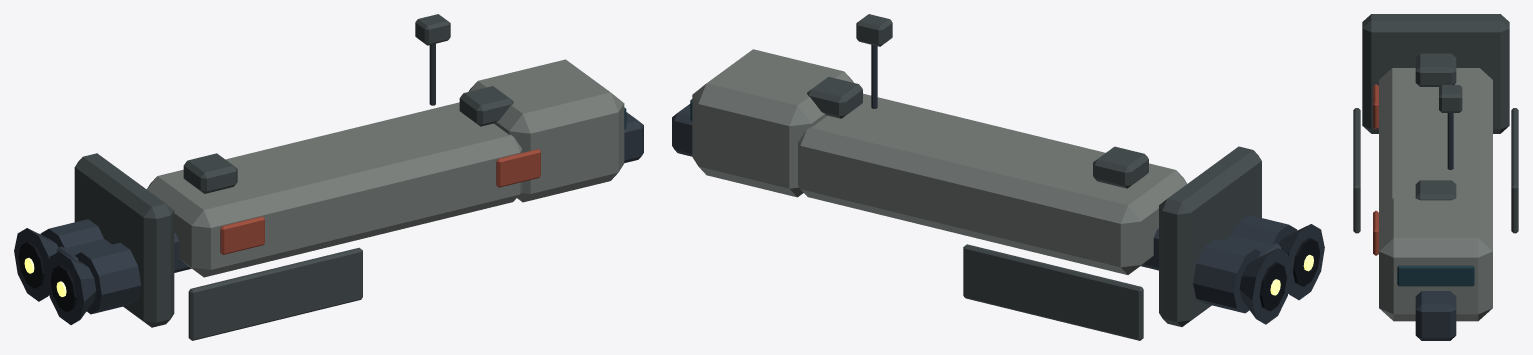
File: necessary-force.glb
3 views of the same model, side by side, from view 1: azimuth 30°, elevation 25°; view 2: azimuth 150°, elevation 25°; view 3: azimuth 270°, elevation 25° (orthographic). The views are drawn at different scales.
Visible parts, largest first — view 1: armored mission hull, forward command, reactor shield, shuttered radiator, engine jacket, engine bell, dorsal mount, structural spine, dorsal mount.001, weapon access.001, engine bell.001, weapon access (+4 smaller); view 2: armored mission hull, forward command, reactor shield, shuttered radiator.001, engine jacket.001, engine bell.001, dorsal mount, structural spine, dorsal mount.001, engine bell, engine jacket, sensor head (+2 smaller); view 3: armored mission hull, forward command, reactor shield, structural spine, bridge glazing, dorsal mount, shuttered radiator, shuttered radiator.001, dorsal mount.001, sensor head, radio mast, weapon access (+1 smaller).
Boxes of the visible parts, x1,y1,x2,y2 form: armored mission hull: (146,102,522,277); forward command: (468,59,624,202); reactor shield: (74,153,174,327); shuttered radiator: (188,247,362,340); engine jacket: (75,242,141,314); engine bell: (46,251,96,324); dorsal mount: (183,153,237,193); structural spine: (56,112,643,272); dorsal mount.001: (459,86,513,126); weapon access.001: (496,149,540,187); engine bell.001: (14,228,58,301); weapon access: (220,216,264,254); armored mission hull: (798,93,1187,274); forward command: (692,49,853,197); reactor shield: (1159,146,1261,326); shuttered radiator.001: (963,244,1143,340); engine jacket.001: (1193,239,1261,313); engine bell.001: (1239,248,1291,324); dorsal mount: (1093,146,1148,188); structural spine: (672,104,1280,270); dorsal mount.001: (807,76,862,118); engine bell: (1279,224,1324,300); engine jacket: (1231,214,1297,244); sensor head: (856,14,892,46); armored mission hull: (1379,68,1492,210); forward command: (1379,198,1492,321); reactor shield: (1362,14,1509,133); structural spine: (1415,291,1456,340); bridge glazing: (1397,265,1474,286); dorsal mount: (1415,53,1456,86); shuttered radiator: (1353,108,1360,233); shuttered radiator.001: (1511,108,1518,233); dorsal mount.001: (1415,180,1456,200); sensor head: (1439,85,1462,112); radio mast: (1447,113,1453,169); weapon access: (1373,84,1378,129).
Size of the model in its own units: 8.73 by 3 by 2.25.
